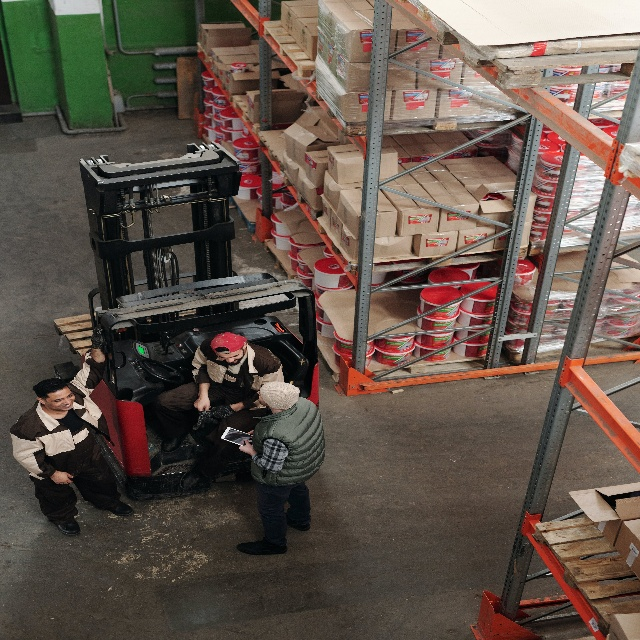Guantes: (90, 324, 108, 349), (192, 407, 207, 431), (95, 326, 103, 336)
Sin_guantes: (50, 469, 74, 485), (193, 395, 211, 411), (239, 440, 255, 456)
